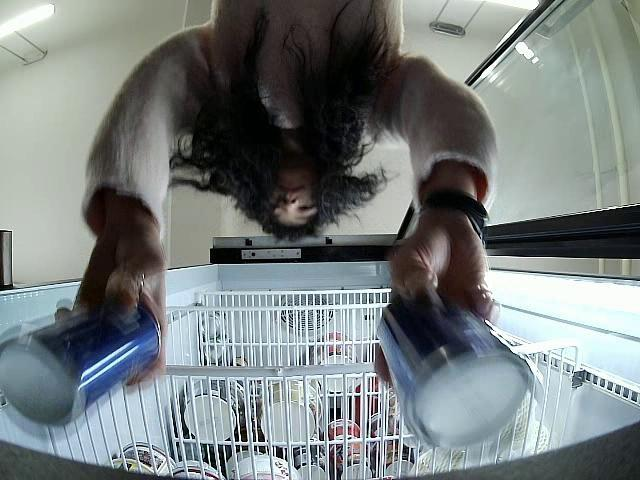16_hot6: (376, 294, 535, 451), (0, 294, 161, 442)
